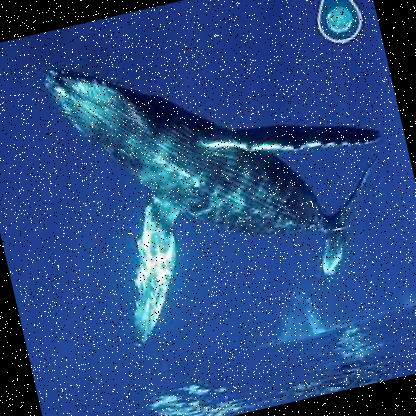blue_whale: (25, 0, 371, 378)
